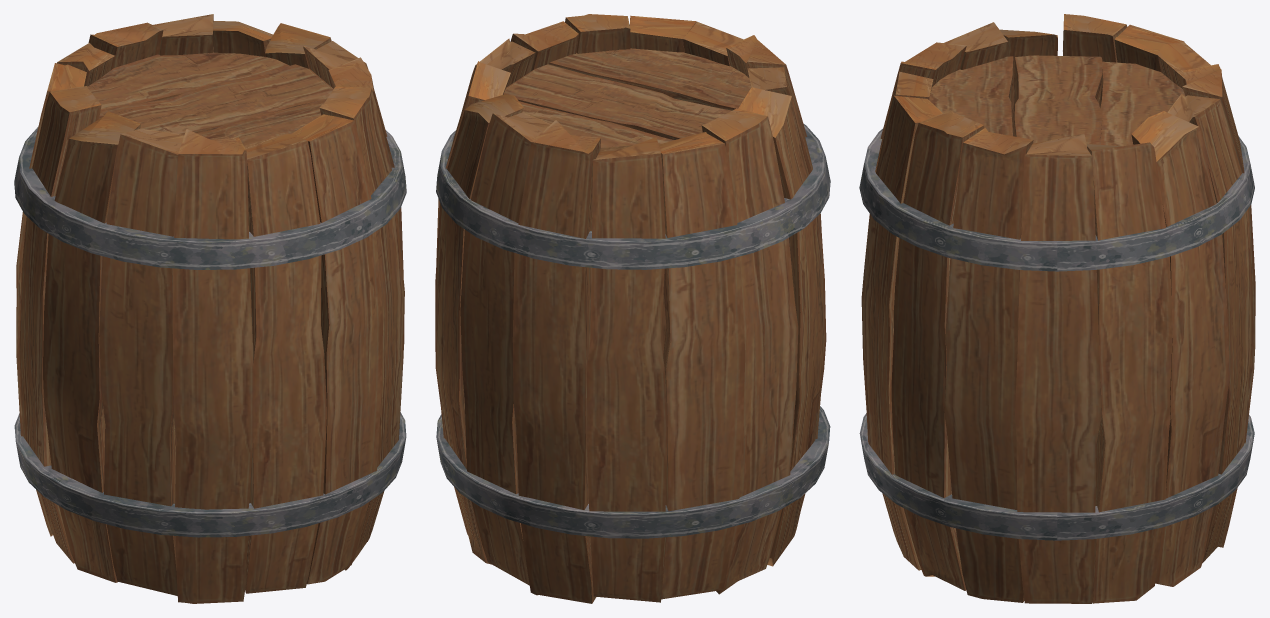
File: SM_Farm_Barrel_01.fbx
3 views of the same model, side by side, from view 1: azimuth 30°, elevation 25°; view 2: azimuth 150°, elevation 25°; view 3: azimuth 270°, elevation 25° (orthographic).
Parts seen in each view (by area): view 1: SM_Farm_Barrel_01_LOD0; view 2: SM_Farm_Barrel_01_LOD0; view 3: SM_Farm_Barrel_01_LOD0.
Boxes of the visible parts, x1,y1,x2,y2 form: SM_Farm_Barrel_01_LOD0: (14,14,406,603); SM_Farm_Barrel_01_LOD0: (435,14,830,603); SM_Farm_Barrel_01_LOD0: (859,14,1255,603).
Size of the model in its own units: 90.49 by 117 by 90.6.
